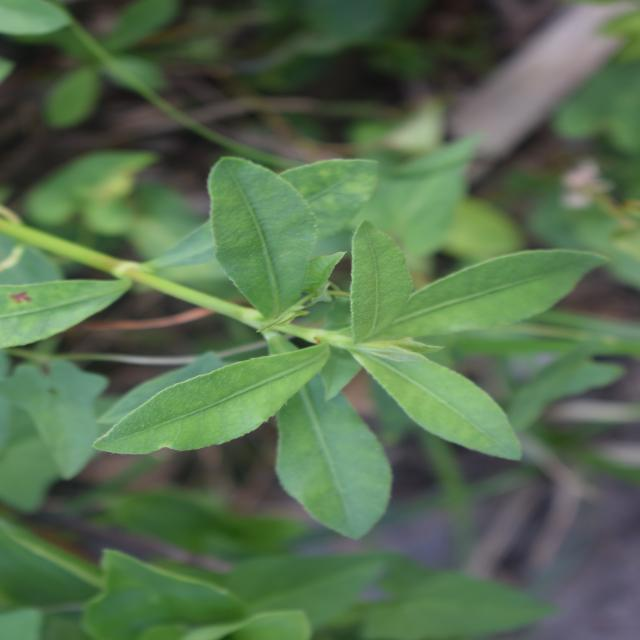Alligatorweed: (140, 83, 457, 566)
